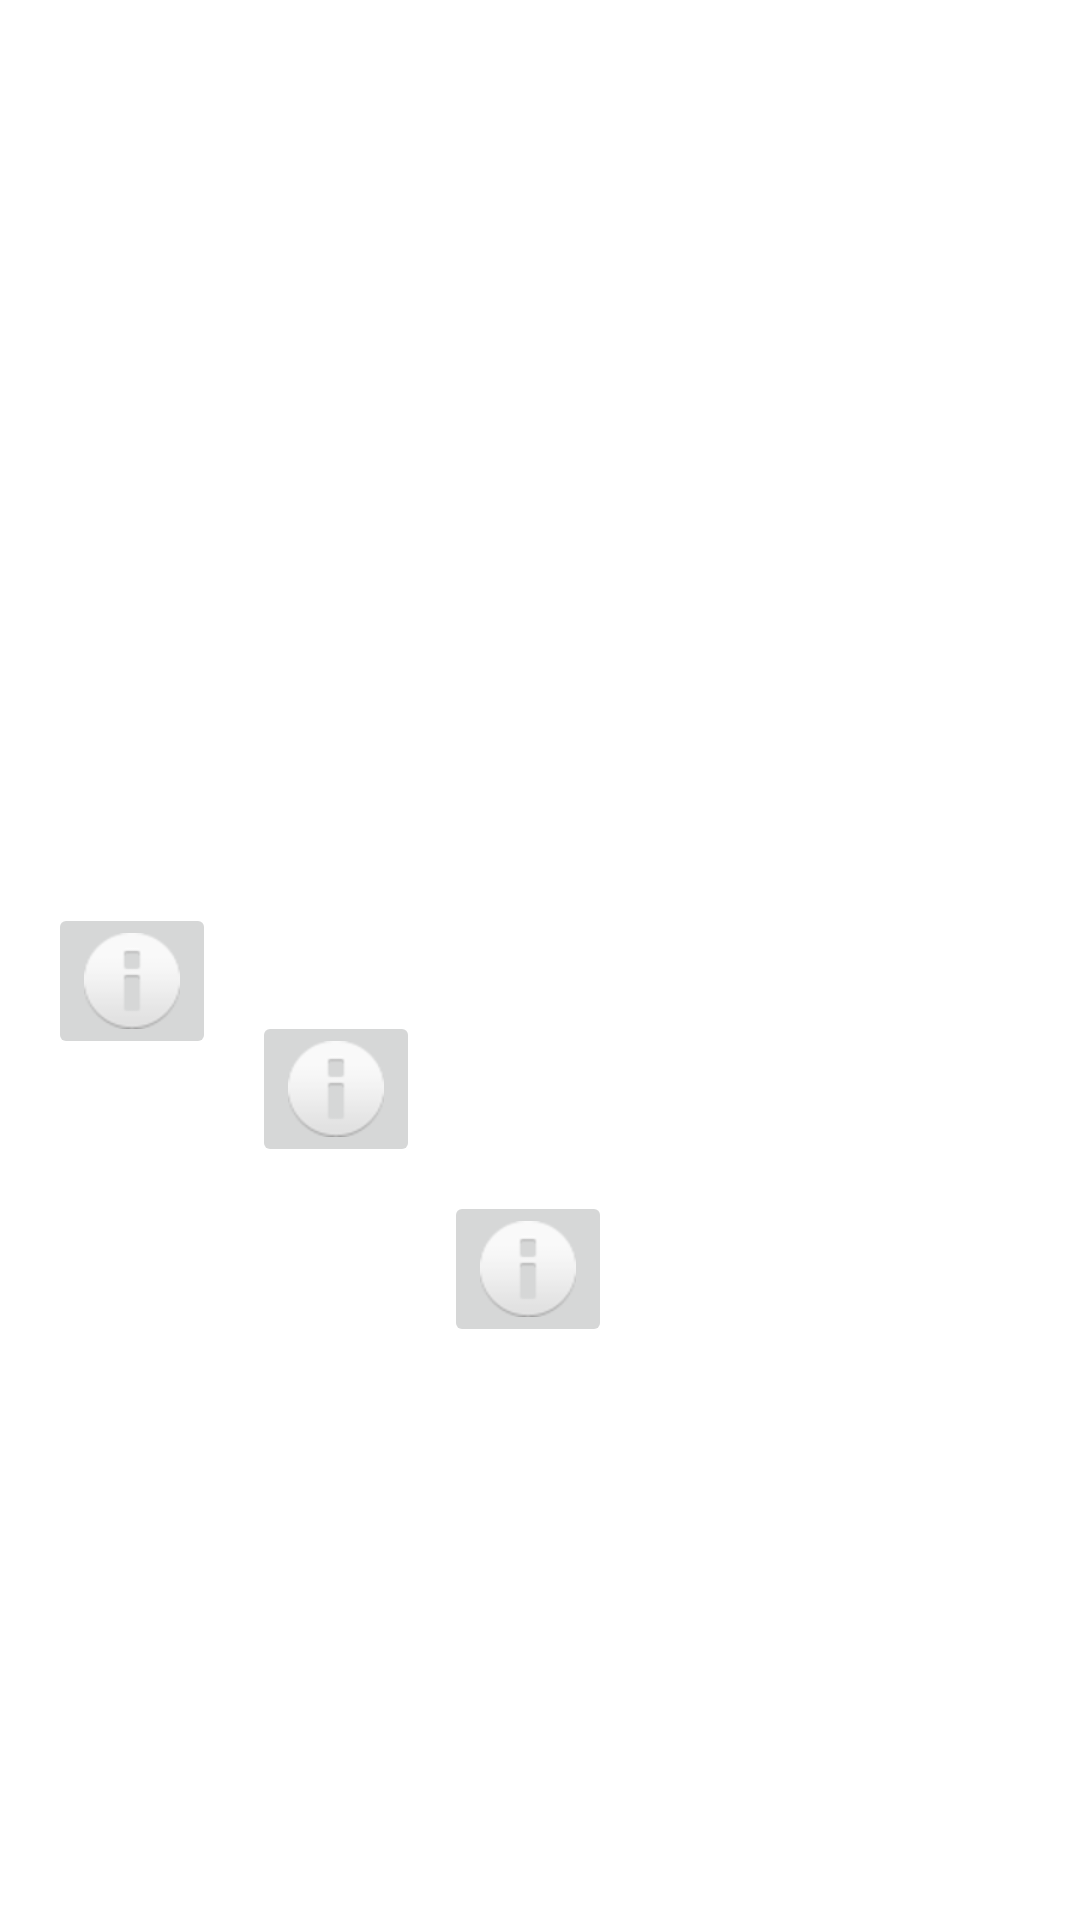

Icons on this 1080×1920 Android screen, each with its box as {"left": x1, "top": y1, "right": x2, "bottom": y2}:
info: {"left": 60, "top": 921, "right": 204, "bottom": 1041}, {"left": 264, "top": 1029, "right": 408, "bottom": 1149}, {"left": 456, "top": 1209, "right": 600, "bottom": 1329}
